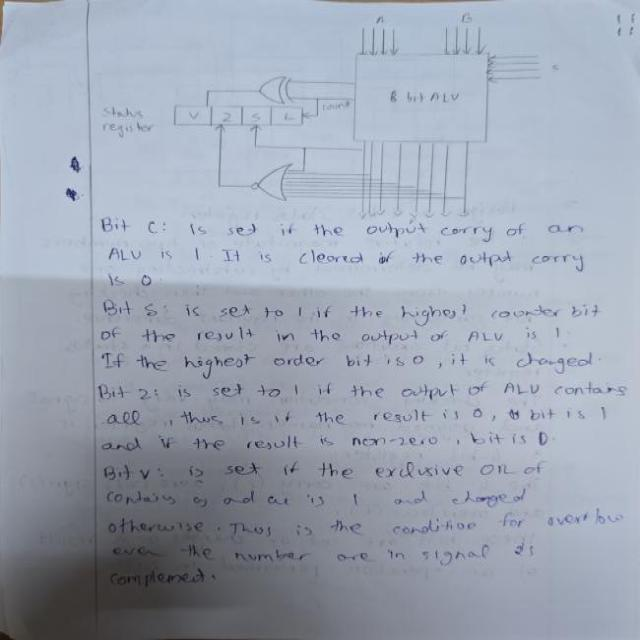Figure Detection - v3 Dataset Version2: (96, 10, 588, 227)
